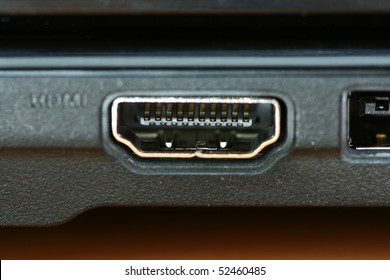hdmi_in: (98, 86, 296, 182)
